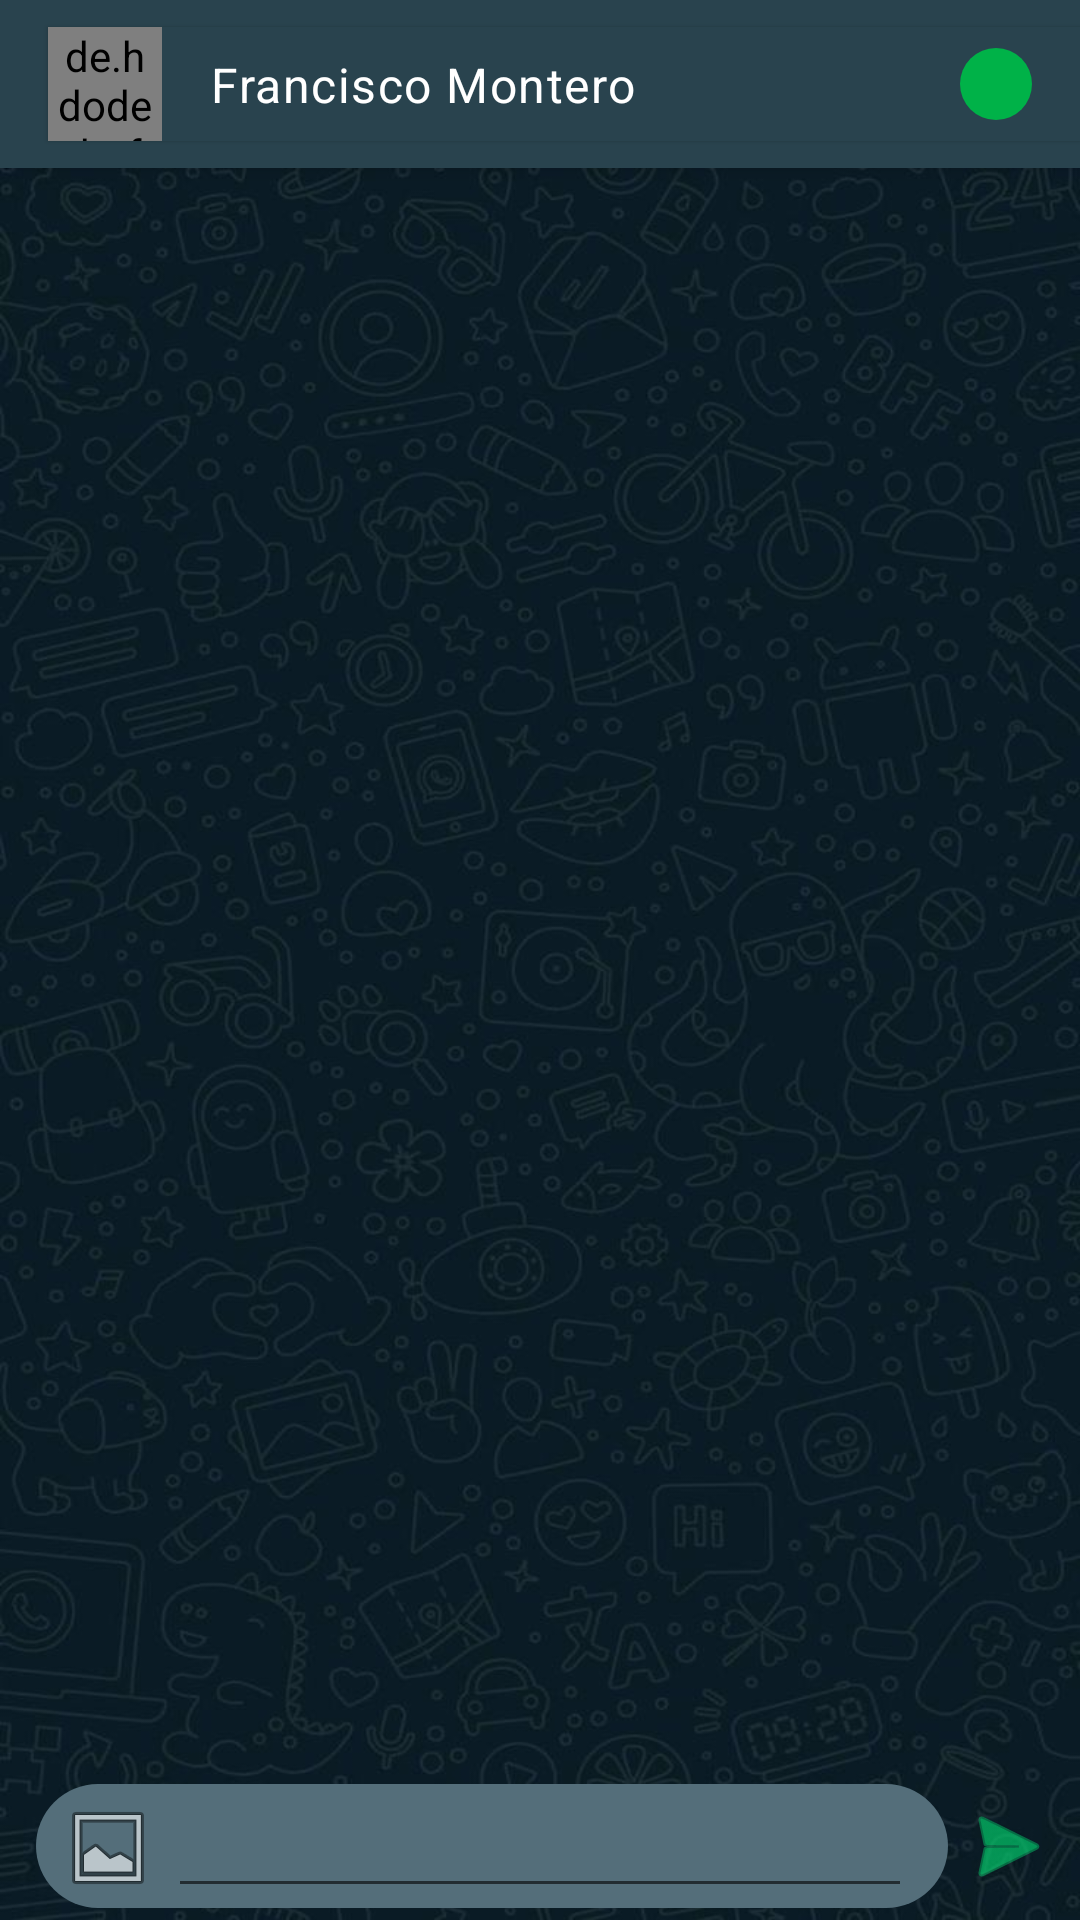

Named icons in this screenshot (1080 x 1920) and their centers, [x,y]:
Enviar mensaje: [1009,1846]
Seleccionar imagen desde la Galería: [108,1848]
